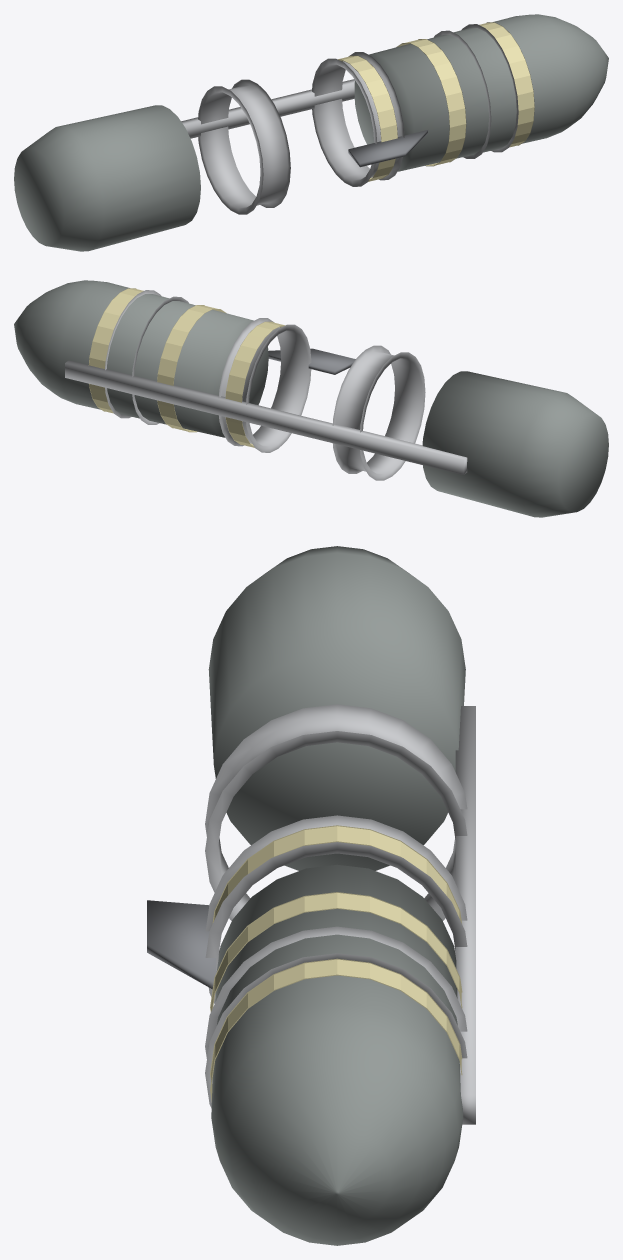
Rendered from FR_SLBM_M51_LOD1.fbx.
3 renders of one model, top to bottom at view 1: azimuth 30°, elevation 25°; view 2: azimuth 150°, elevation 25°; view 3: azimuth 270°, elevation 25°, orthographic. The views are drawn at different scales.
Visible parts, largest first — view 1: WPN_FR_SLBM_M51_LOD1_Tail, WPN_FR_SLBM_M51_LOD1_Body, WPN_FR_SLBM_M51_LOD1_Detail, WPN_FR_SLBM_M51_LOD1_Marking; view 2: WPN_FR_SLBM_M51_LOD1_Detail, WPN_FR_SLBM_M51_LOD1_Tail, WPN_FR_SLBM_M51_LOD1_Body, WPN_FR_SLBM_M51_LOD1_Marking; view 3: WPN_FR_SLBM_M51_LOD1_Body, WPN_FR_SLBM_M51_LOD1_Tail, WPN_FR_SLBM_M51_LOD1_Detail, WPN_FR_SLBM_M51_LOD1_Marking.
Boxes of the visible parts, box(x1,y1,x2,y2) form: WPN_FR_SLBM_M51_LOD1_Tail: box(14, 105, 200, 251); WPN_FR_SLBM_M51_LOD1_Body: box(354, 14, 608, 171); WPN_FR_SLBM_M51_LOD1_Detail: box(181, 24, 518, 214); WPN_FR_SLBM_M51_LOD1_Marking: box(338, 22, 534, 181); WPN_FR_SLBM_M51_LOD1_Detail: box(65, 290, 467, 480); WPN_FR_SLBM_M51_LOD1_Tail: box(422, 371, 608, 517); WPN_FR_SLBM_M51_LOD1_Body: box(14, 280, 268, 437); WPN_FR_SLBM_M51_LOD1_Marking: box(88, 288, 284, 447); WPN_FR_SLBM_M51_LOD1_Body: box(211, 864, 463, 1245); WPN_FR_SLBM_M51_LOD1_Tail: box(208, 546, 465, 870); WPN_FR_SLBM_M51_LOD1_Detail: box(147, 704, 475, 1124); WPN_FR_SLBM_M51_LOD1_Marking: box(210, 825, 462, 1101).
Size of the model in its own units: 12 by 3 by 2.41.
